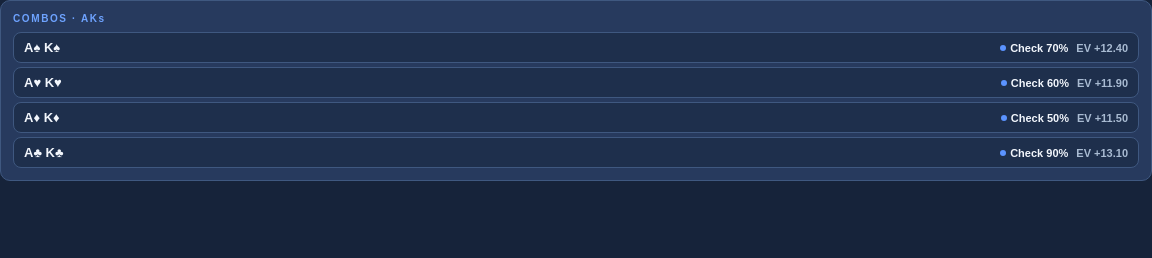
Scenario: ComboInspector › expands a combo into strategy bars and stats
Click the text "A♠ K♠": (42, 48) [24,40,60,55]
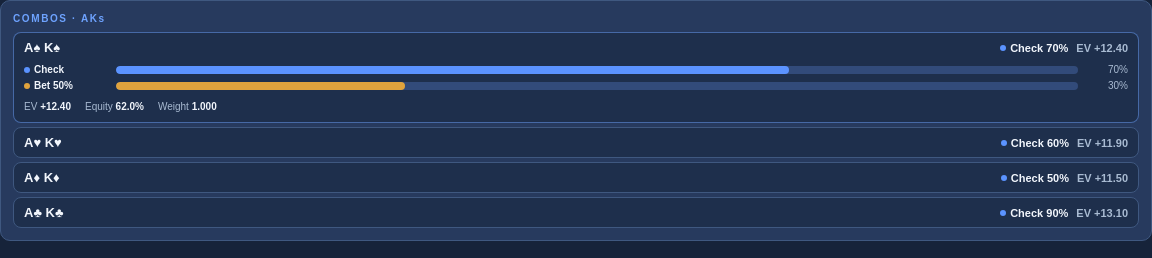
Expected: the button "A♠ K♠ Check 70% EV +12.40" is shown, [14,33,1138,62]
Result: the text "Equity" is shown at [85,101,116,112]
Result: the text "Weight" is shown at [158,101,192,112]
